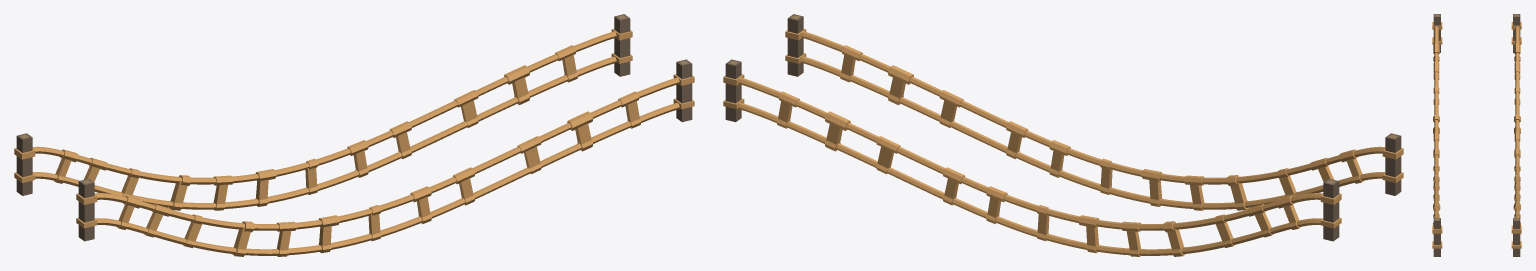
File: Bridge.fbx
3 views of the same model, side by side, from view 1: azimuth 30°, elevation 25°; view 2: azimuth 150°, elevation 25°; view 3: azimuth 270°, elevation 25° (orthographic). The views are drawn at different scales.
Parts seen in each view (by area): view 1: Bridge; view 2: Bridge; view 3: Bridge.
Boxes of the visible parts, x1,y1,x2,y2 form: Bridge: (14,14,694,256); Bridge: (723,14,1403,256); Bridge: (1432,14,1521,256).
Size of the model in its own units: 22.75 by 4.53 by 4.5.
